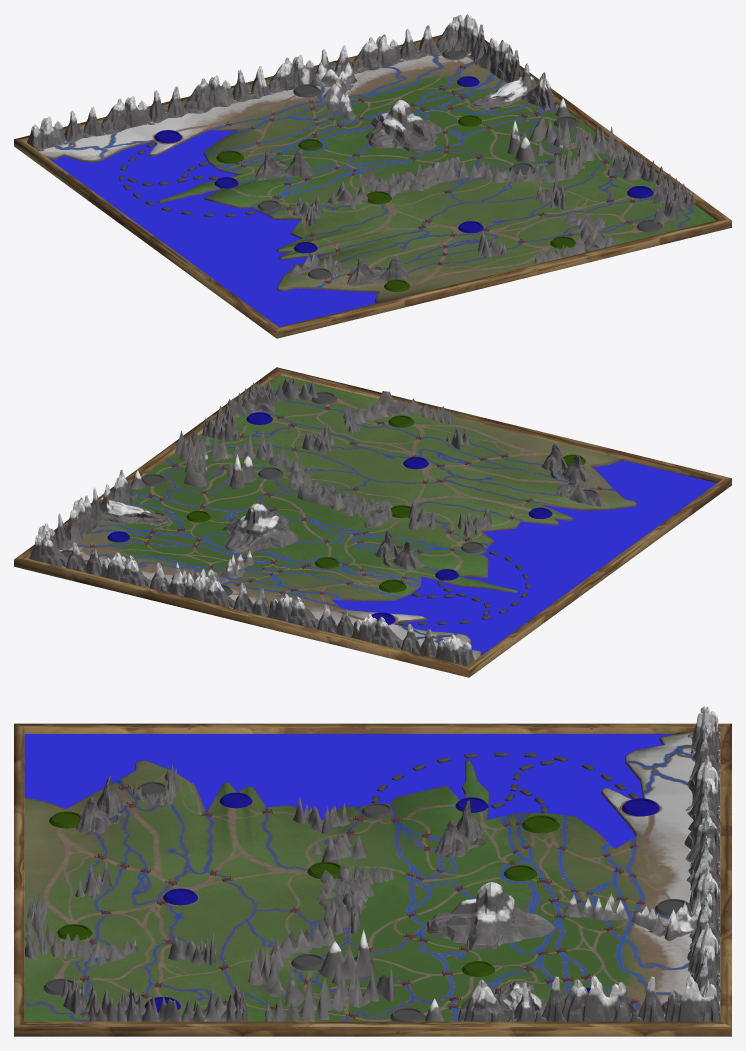
Rendered from provMap.glb.
3 views of the same model, one above another, from view 1: azimuth 30°, elevation 25°; view 2: azimuth 150°, elevation 25°; view 3: azimuth 270°, elevation 25° (orthographic). The views are drawn at different scales.
Parts seen in each view (by area): view 1: map-Low-Poly, map-mountains, water_plane, map-frame, citymarkers, bridges, Cube; view 2: map-Low-Poly, map-mountains, water_plane, map-frame, citymarkers, bridges, Cube; view 3: map-Low-Poly, map-mountains, water_plane, map-frame, citymarkers, bridges, Cube.
Boxes of the visible parts, x1,y1,x2,y2 form: map-Low-Poly: [39, 51, 716, 303]; map-mountains: [27, 14, 695, 285]; water_plane: [48, 130, 377, 326]; map-frame: [14, 35, 731, 338]; citymarkers: [154, 49, 662, 291]; bridges: [225, 65, 634, 283]; Cube: [119, 142, 255, 216]; map-Low-Poly: [59, 375, 637, 659]; map-mountains: [29, 377, 605, 665]; water_plane: [332, 460, 716, 655]; map-frame: [14, 367, 731, 677]; citymarkers: [60, 392, 597, 624]; bridges: [90, 405, 601, 604]; Cube: [399, 551, 529, 625]; map-Low-Poly: [24, 732, 720, 1021]; map-mountains: [25, 706, 720, 1021]; water_plane: [24, 734, 672, 848]; map-frame: [14, 723, 731, 1036]; citymarkers: [43, 781, 691, 1021]; bridges: [80, 784, 645, 1018]; Cube: [371, 752, 639, 812].
Bounding box in the file's own units: 51.62 × 4.13 × 51.62.
9 materials, 3 textured.
